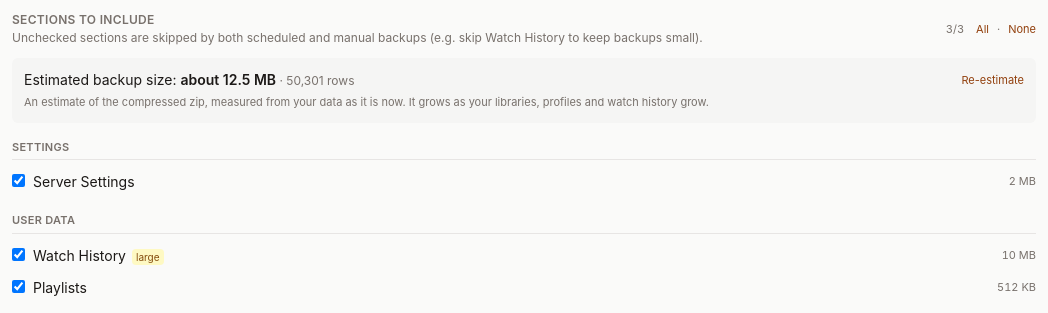
it: BackupSectionPicker › shows each section size and a total that follows the ticked boxes
Check: the text "10 MB" is shown, box 1002,248 -> 1036,263
Check: the text "512 KB" is shown, box 997,280 -> 1036,295
Click the checkbox labelled "Watch History" at (18, 254), box 12,248 -> 25,260
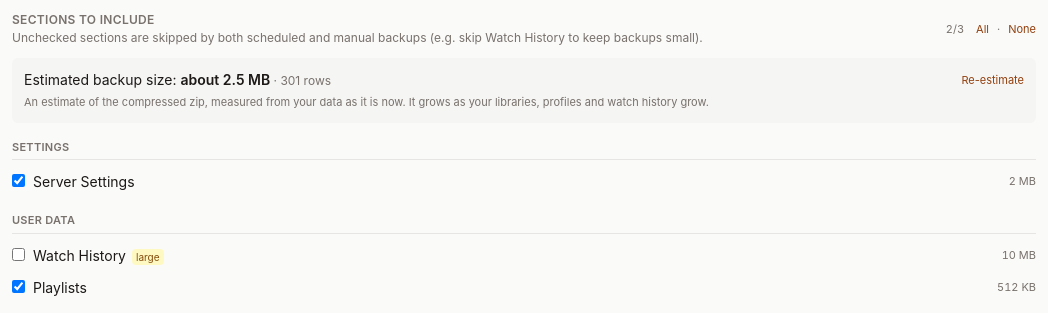
Check: the text "about 2.5 MB" is shown, box 180,71 -> 270,88
